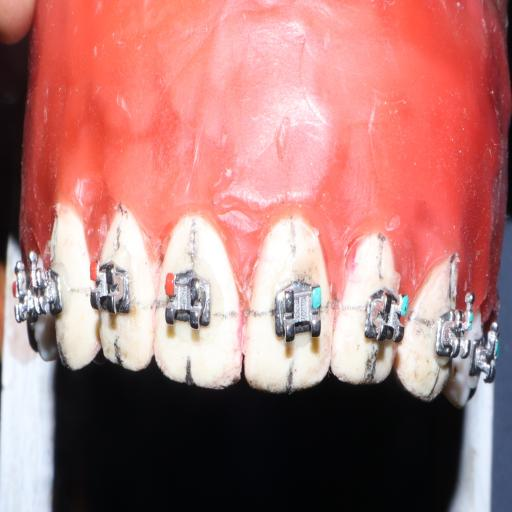incorrect_brace: (268, 271, 326, 349), (164, 268, 215, 337)
